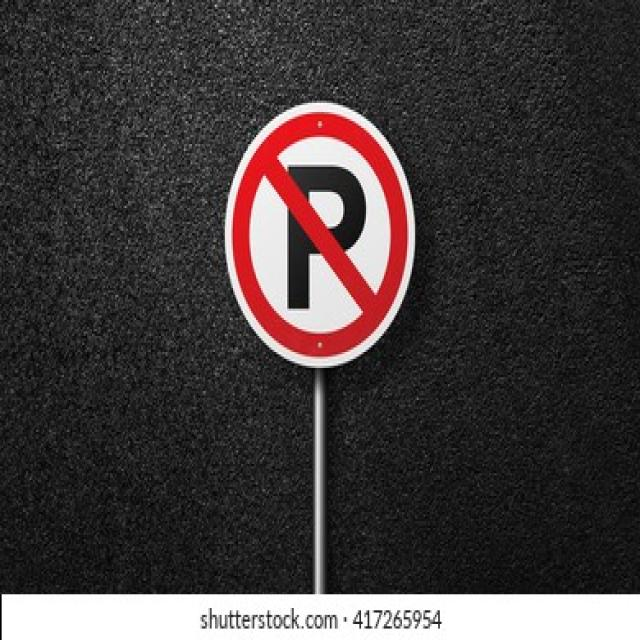Traffic sign: (220, 82, 420, 379)
